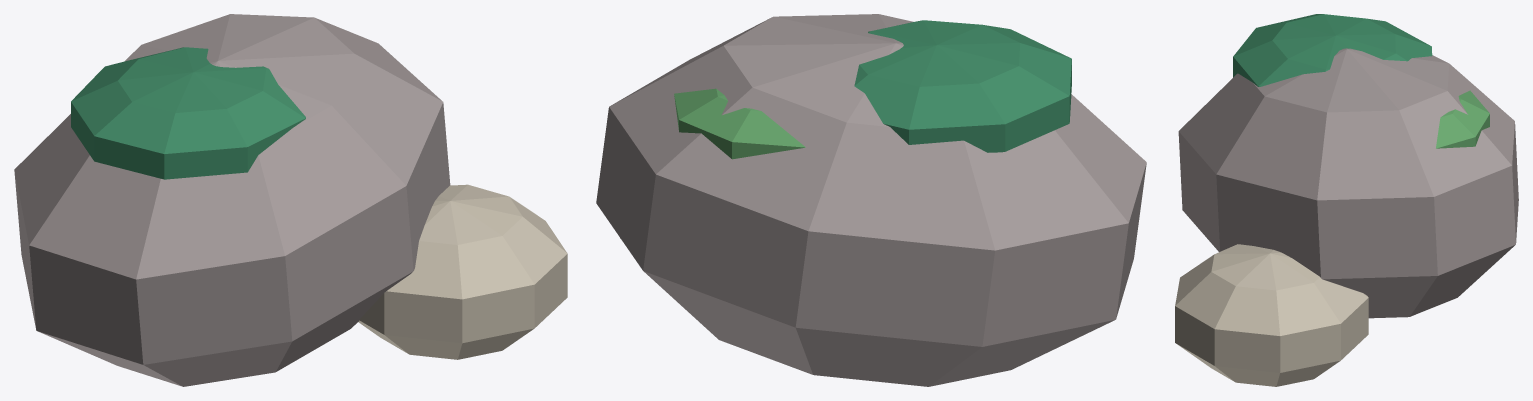
File: rock-moss.gltf
3 renders of one model, left to right at view 1: azimuth 30°, elevation 25°; view 2: azimuth 150°, elevation 25°; view 3: azimuth 270°, elevation 25°, orthographic. The views are drawn at different scales.
Parts seen in each view (by area): view 1: foliage_stone, foliage_stoneLight, foliage_leafDark; view 2: foliage_stone, foliage_leafDark, foliage_leaf; view 3: foliage_stone, foliage_stoneLight, foliage_leafDark, foliage_leaf.
Boxes of the visible parts, <box> form: foliage_stone: <box>14,14,450,386</box>; foliage_stoneLight: <box>358,184,567,359</box>; foliage_leafDark: <box>71,47,305,179</box>; foliage_stone: <box>596,14,1146,386</box>; foliage_leafDark: <box>854,20,1071,152</box>; foliage_leaf: <box>674,88,805,159</box>; foliage_stone: <box>1178,48,1518,318</box>; foliage_stoneLight: <box>1175,244,1368,386</box>; foliage_leafDark: <box>1233,14,1432,86</box>; foliage_leaf: <box>1436,90,1489,148</box>.
Bounding box in the file's own units: 1.37 × 0.79 × 0.9929.
